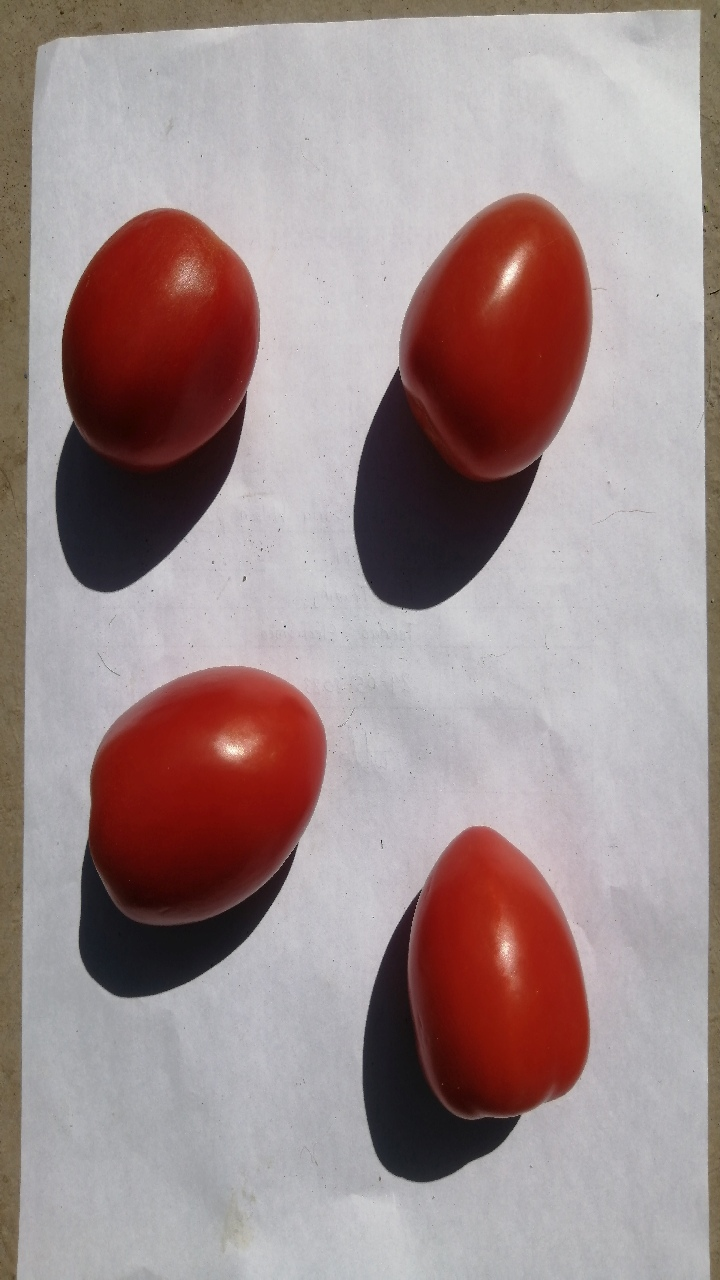tomateRojo: (91, 639, 346, 975), (371, 154, 600, 509), (380, 797, 608, 1134), (37, 195, 272, 477)
